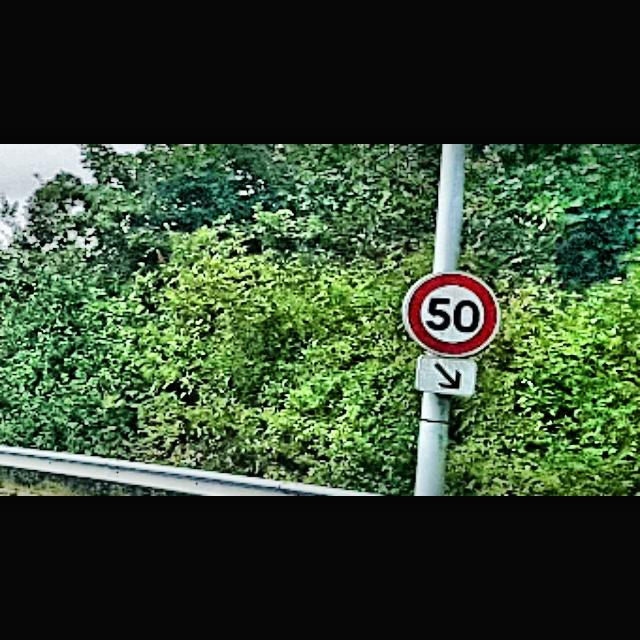speed_50: (402, 269, 502, 359)
